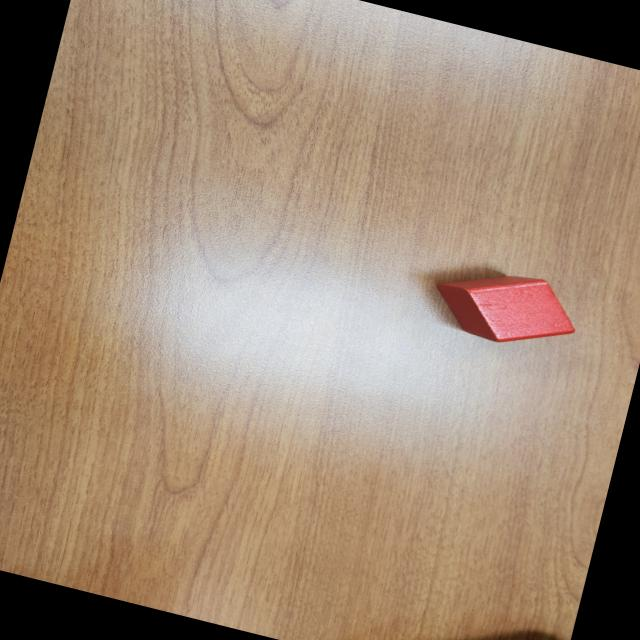red: (426, 253, 586, 360)
